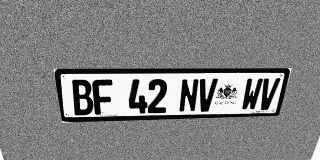2: (148, 79, 167, 113)
4: (128, 79, 148, 114)
B: (70, 80, 94, 115)
F: (92, 79, 114, 115)
N: (178, 79, 199, 112)
V: (257, 78, 281, 110), (196, 78, 218, 112)
W: (240, 78, 263, 111)
